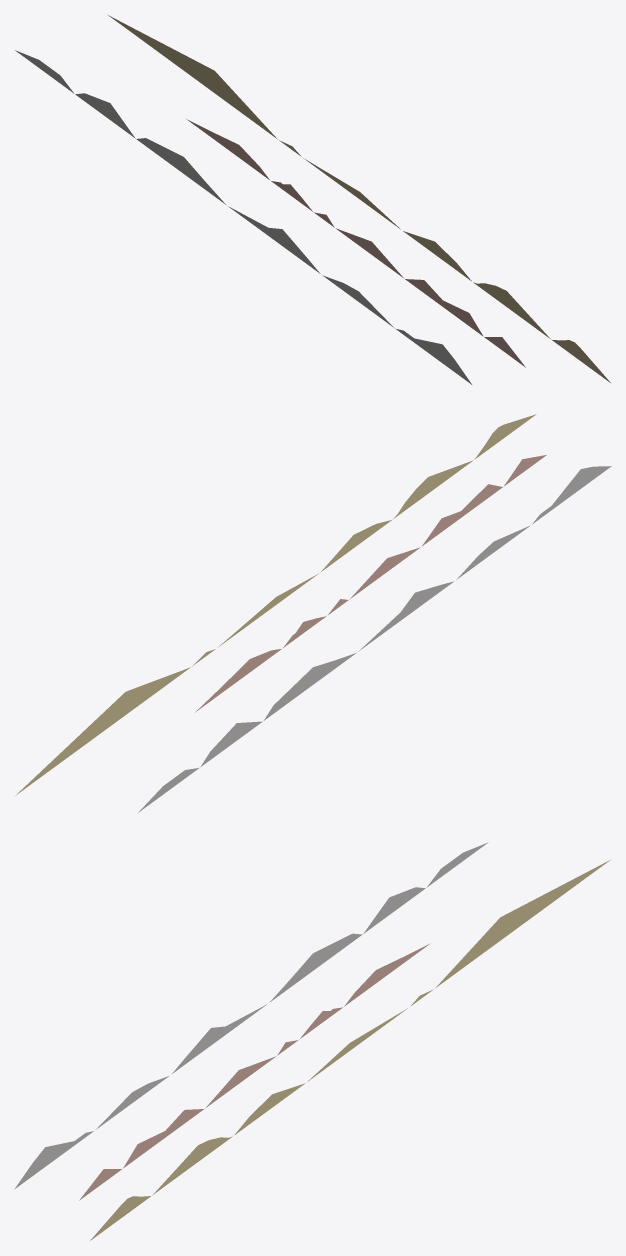
The model's file is yama.gltf.
3 views of the same model, one above another, from view 1: azimuth 30°, elevation 25°; view 2: azimuth 150°, elevation 25°; view 3: azimuth 330°, elevation 25° (orthographic). The views are drawn at different scales.
Parts seen in each view (by area): view 1: Node1, Node11, Node7, Node9, Node5, Node17, Node13, Node10, Node6, Node16, Node4; view 2: Node1, Node11, Node7, Node9, Node17, Node5, Node10, Node13, Node6, Node4, Node16; view 3: Node1, Node11, Node7, Node9, Node17, Node5, Node10, Node13, Node6, Node4, Node16.
Part boxes in pixels (x1=…): Node1: x1=108, y1=15, x2=277, y2=139; Node11: x1=136, y1=138, x2=225, y2=204; Node7: x1=395, y1=328, x2=471, y2=384; Node9: x1=228, y1=206, x2=320, y2=273; Node5: x1=473, y1=282, x2=550, y2=338; Node17: x1=405, y1=279, x2=483, y2=336; Node13: x1=186, y1=119, x2=269, y2=179; Node10: x1=75, y1=93, x2=135, y2=138; Node6: x1=403, y1=231, x2=471, y2=281; Node16: x1=336, y1=228, x2=404, y2=278; Node4: x1=551, y1=339, x2=610, y2=382; Node1: x1=14, y1=667, x2=190, y2=796; Node11: x1=263, y1=653, x2=355, y2=720; Node7: x1=532, y1=466, x2=611, y2=524; Node9: x1=358, y1=581, x2=453, y2=651; Node17: x1=421, y1=484, x2=502, y2=546; Node5: x1=393, y1=460, x2=473, y2=518; Node10: x1=200, y1=721, x2=262, y2=767; Node13: x1=195, y1=649, x2=281, y2=712; Node6: x1=320, y1=520, x2=391, y2=572; Node4: x1=474, y1=414, x2=536, y2=459; Node16: x1=349, y1=547, x2=420, y2=599; Node1: x1=435, y1=860, x2=610, y2=988; Node11: x1=269, y1=933, x2=362, y2=1002; Node7: x1=14, y1=1131, x2=93, y2=1189; Node9: x1=171, y1=1004, x2=267, y2=1074; Node17: x1=123, y1=1109, x2=203, y2=1168; Node5: x1=152, y1=1136, x2=232, y2=1195; Node10: x1=363, y1=887, x2=425, y2=933; Node13: x1=344, y1=943, x2=430, y2=1006; Node6: x1=234, y1=1083, x2=305, y2=1135; Node4: x1=89, y1=1196, x2=150, y2=1241; Node16: x1=205, y1=1056, x2=275, y2=1108.
Size of the model in its own units: 1.72e+08 by 3.53e+07 by 1.42e+09.
